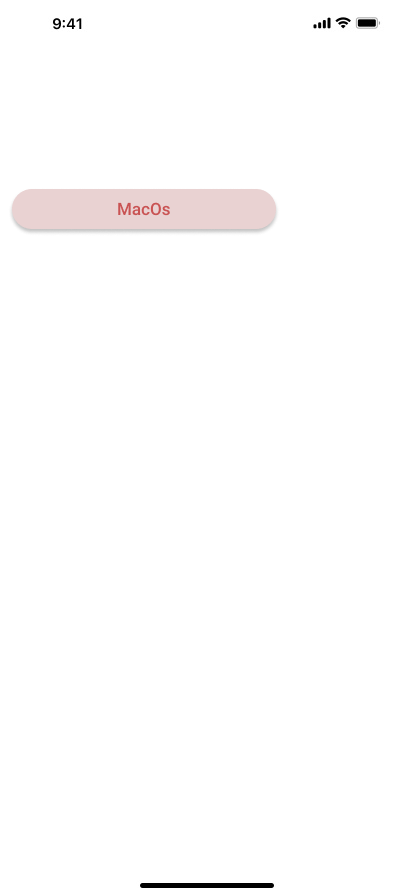Buttons: (8, 188, 284, 236)
Home Indicator: (0, 862, 414, 896)
Status Bar: (0, 0, 414, 44)
